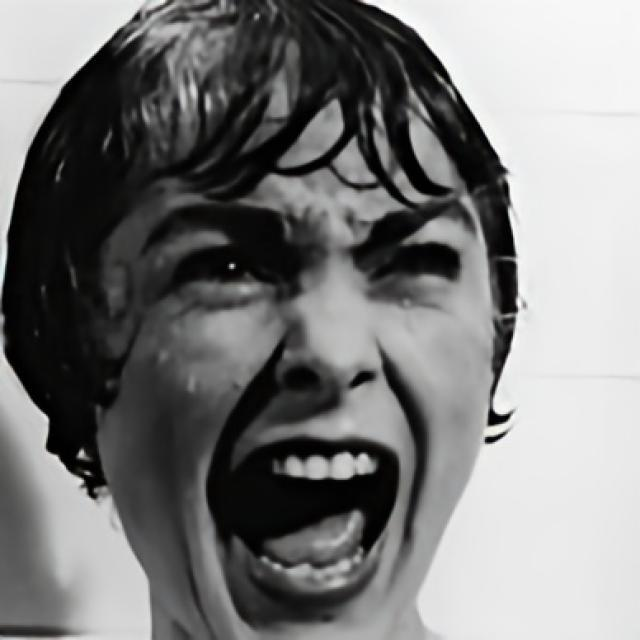Fear: (96, 0, 494, 640)
